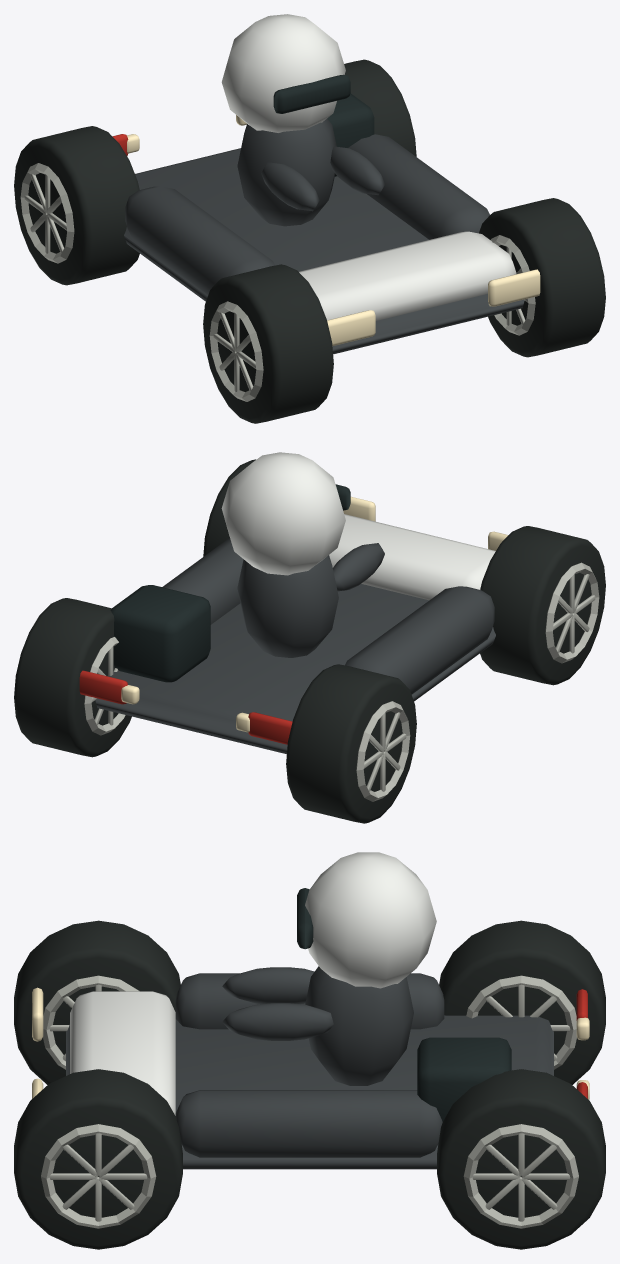
The model's file is car-8.glb.
3 views of the same model, one above another, from view 1: azimuth 30°, elevation 25°; view 2: azimuth 150°, elevation 25°; view 3: azimuth 270°, elevation 25° (orthographic). The views are drawn at different scales.
Parts seen in each view (by area): view 1: driver_arm, helmet, flat_tyre.032, flat_tyre.033, flat_tyre.034, engine, flat_tyre.035, rim.033, rim.032, headlamp_0.009, headlamp_-0.009, rim.034; view 2: driver_arm, helmet, flat_tyre.033, flat_tyre.032, flat_tyre.035, engine, rim.032, rim.033, rim.035, flat_tyre.034, taillamp_0.009, taillamp_-0.009 (+1 smaller); view 3: driver_arm, helmet, flat_tyre.034, flat_tyre.035, flat_tyre.033, flat_tyre.032, engine, rim.034, rim.035, rim.033, rim.032, headlamp_-0.009.
Boxes of the visible parts, box(x1,y1,x2,y2) form: driver_arm: box(124, 119, 524, 354); helmet: box(221, 14, 516, 320); flat_tyre.032: box(203, 264, 333, 423); flat_tyre.033: box(14, 126, 139, 285); flat_tyre.034: box(479, 198, 605, 357); engine: box(273, 74, 374, 176); flat_tyre.035: box(344, 59, 416, 156); rim.033: box(20, 163, 74, 263); rim.032: box(209, 301, 263, 401); headlamp_0.009: box(488, 269, 540, 306); headlamp_-0.009: box(327, 310, 375, 346); rim.034: box(491, 235, 535, 335); driver_arm: box(95, 538, 495, 754); helmet: box(221, 452, 495, 600); flat_tyre.033: box(286, 664, 416, 823); flat_tyre.032: box(480, 526, 605, 685); flat_tyre.035: box(14, 598, 131, 757); engine: box(110, 484, 350, 682); rim.032: box(545, 562, 599, 663); rim.033: box(356, 701, 410, 801); rim.035: box(84, 637, 125, 735); flat_tyre.034: box(203, 459, 255, 556); taillamp_0.009: box(79, 670, 127, 704); taillamp_-0.009: box(248, 712, 292, 744); driver_arm: box(66, 966, 553, 1169); helmet: box(70, 852, 436, 1115); flat_tyre.034: box(14, 1069, 182, 1249); flat_tyre.035: box(437, 1069, 605, 1249); flat_tyre.033: box(439, 920, 605, 1084); flat_tyre.032: box(14, 920, 180, 1084); engine: box(297, 888, 511, 1121); rim.034: box(41, 1124, 156, 1228); rim.035: box(463, 1124, 578, 1228); rim.033: box(466, 975, 576, 1069); rim.032: box(43, 975, 139, 1069); headlamp_-0.009: box(32, 987, 43, 1041).
Size of the model in its own units: 2.72 by 2.06 by 3.64.
